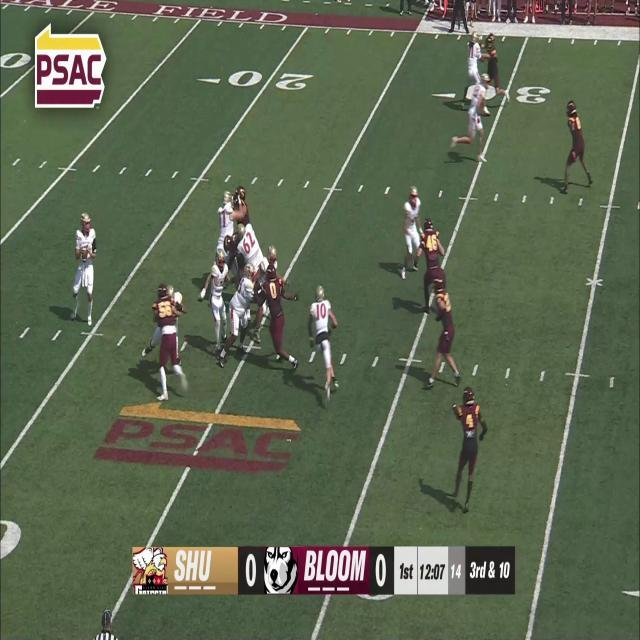football: (81, 246, 88, 261)
